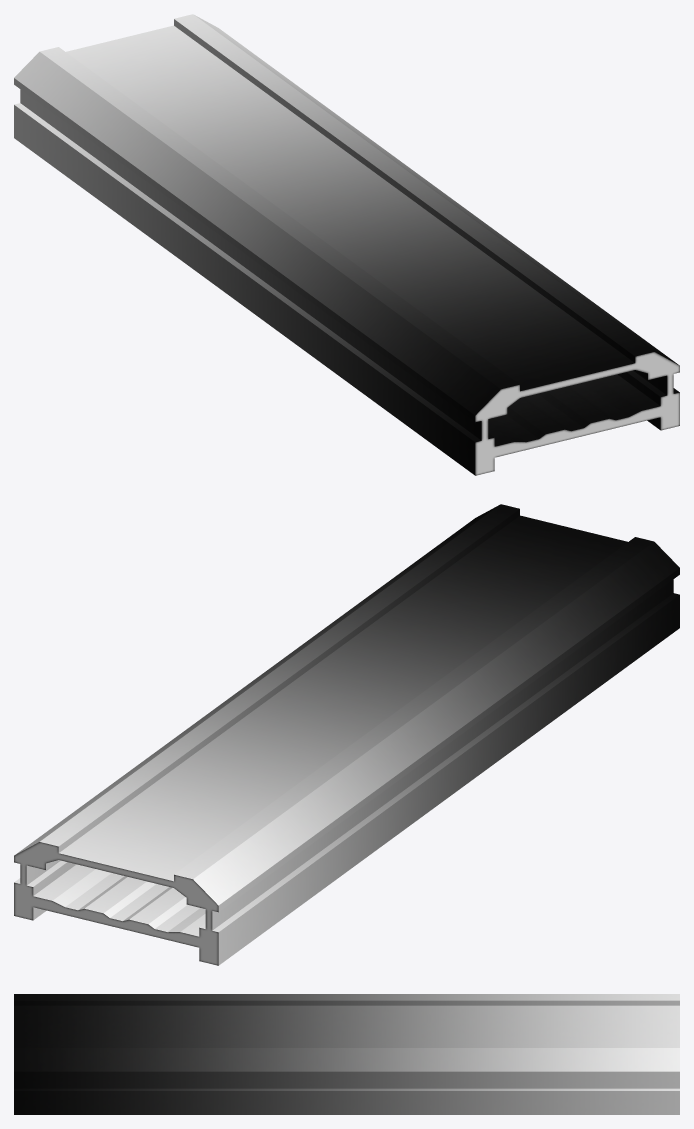
The model's file is tunnle_test01b.fbx.
3 views of the same model, one above another, from view 1: azimuth 30°, elevation 25°; view 2: azimuth 150°, elevation 25°; view 3: azimuth 270°, elevation 25° (orthographic). The views are drawn at different scales.
Visible parts, largest first — view 1: pCube1; view 2: pCube1; view 3: pCube1.
Part boxes in pixels (x1,y1,x2,y2): pCube1: (14,14,679,475); pCube1: (14,504,679,965); pCube1: (14,994,679,1114).
Bounding box in the file's own units: 320 × 120 × 1250.
